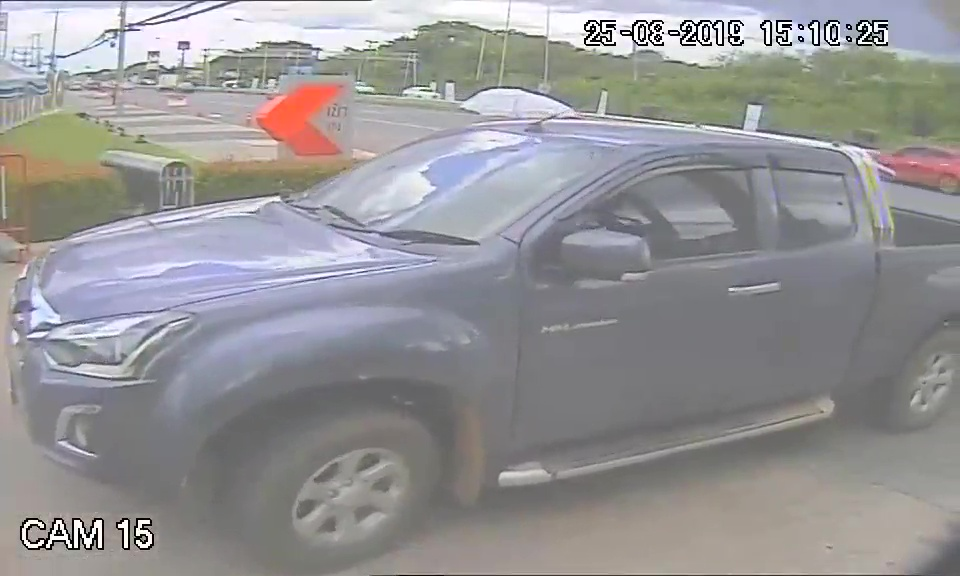pickup: (8, 110, 891, 515)
